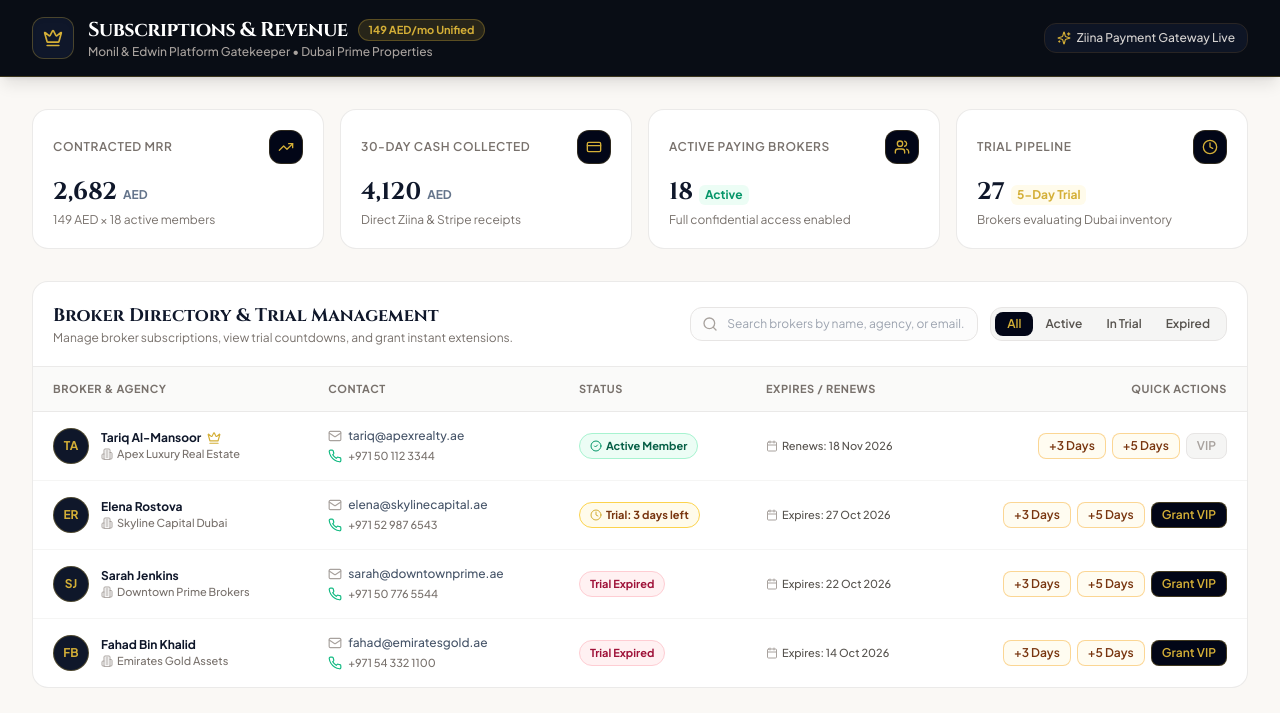
Scenario: AdminSubscriptions Dashboard › filters broker list by search query on name, agency, or email
expect the text "Elena Rostova" is shown: met, box [101,499,182,515]
# Search by agency
Type "Skyline" into the field with placeholder "Search brokers by name, agency, or email...".
click(834, 324); type("Skyline")  # box [690,307,978,341]
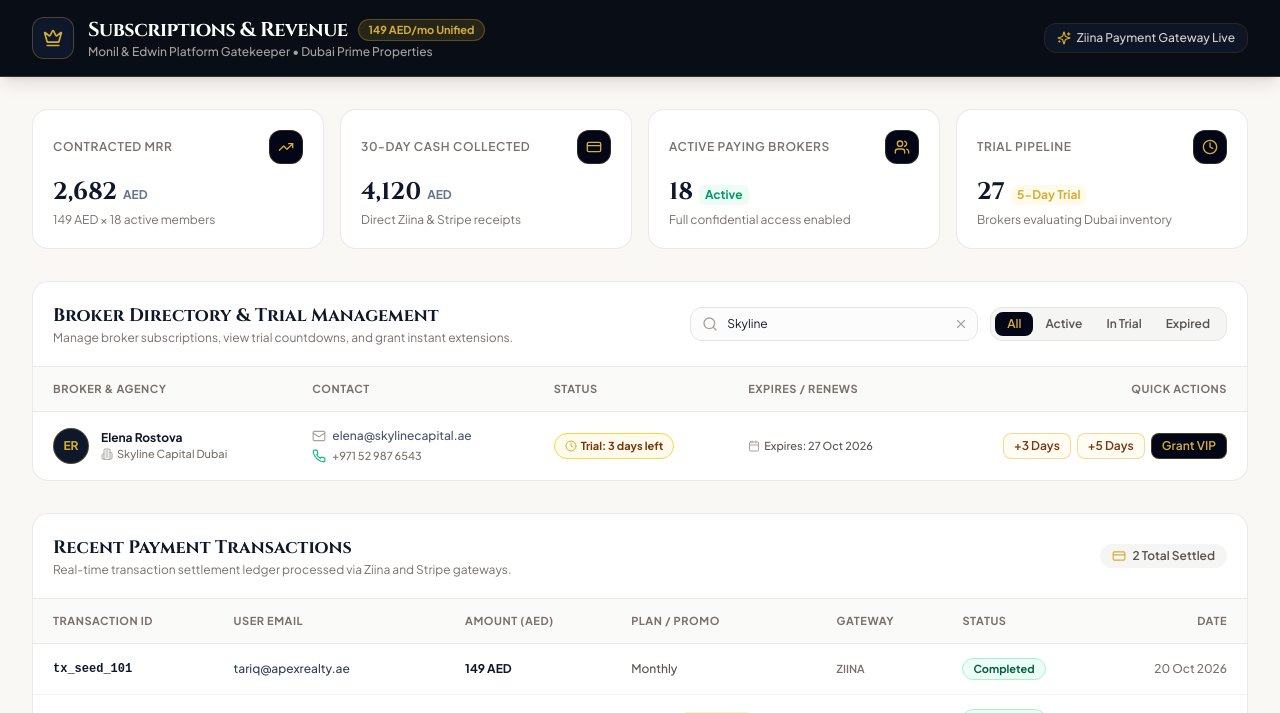
expect the text "Elena Rostova" is shown: met, box [101,430,182,446]
expect the text "Tariq Al-Mansoor" is gone: met
expect the text "Sarah Jenkins" is gone: met
# Search by email
Replace the text in the field with placeholder "Search brokers by name, agency, or email..." with "sarah@downtownprime.ae" at [834, 324], box [690,307,978,341]
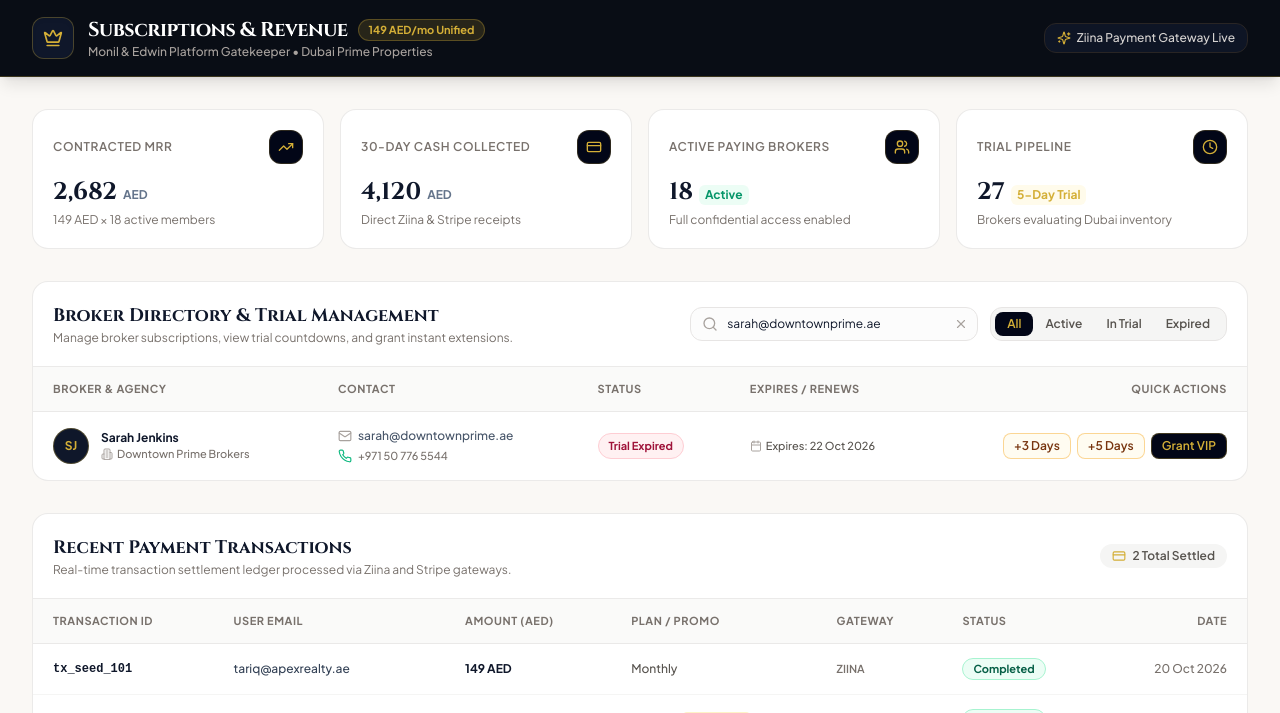
expect the text "Sarah Jenkins" is shown: met, box [101,430,179,446]
expect the text "Elena Rostova" is gone: met
# Clear search
Clear the field with placeholder "Search brokers by name, agency, or email..." at [834, 324], box [690,307,978,341]
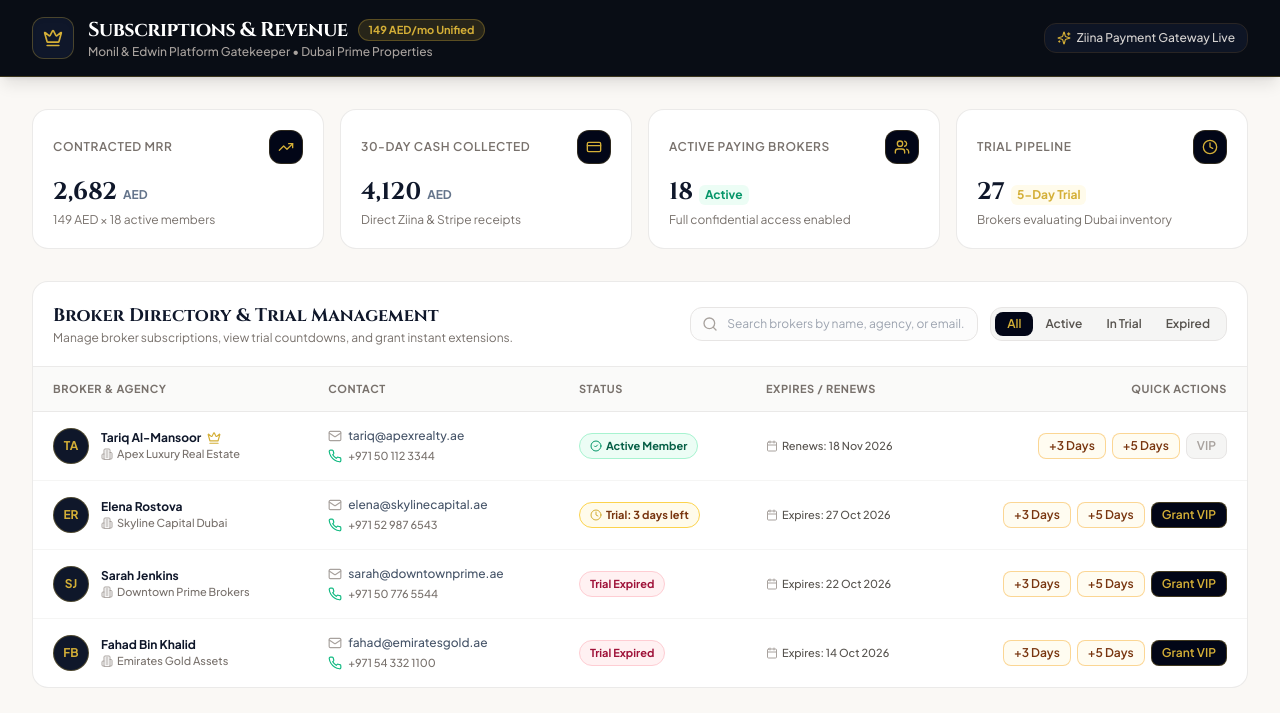
expect the text "Tariq Al-Mansoor" is shown: met, box [101,430,201,446]
expect the text "Elena Rostova" is shown: met, box [101,499,182,515]
